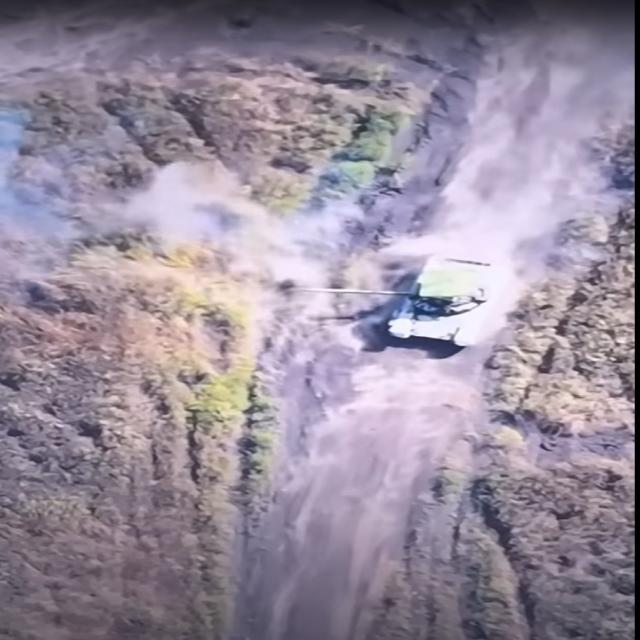MBT: (291, 255, 500, 352)
